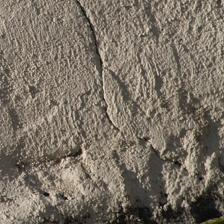Crack: (50, 0, 134, 90), (25, 53, 190, 90)
